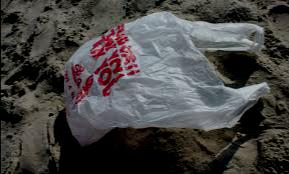Plastic: (61, 7, 271, 153)
